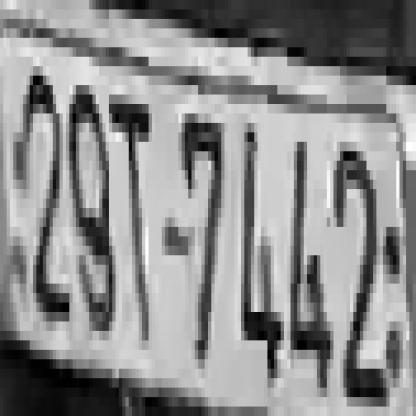2: (334, 151, 380, 397), (26, 66, 63, 322)
4: (238, 123, 280, 378), (287, 142, 330, 388)
7: (182, 114, 221, 360)
9: (70, 85, 112, 331)
T: (112, 94, 155, 340)
